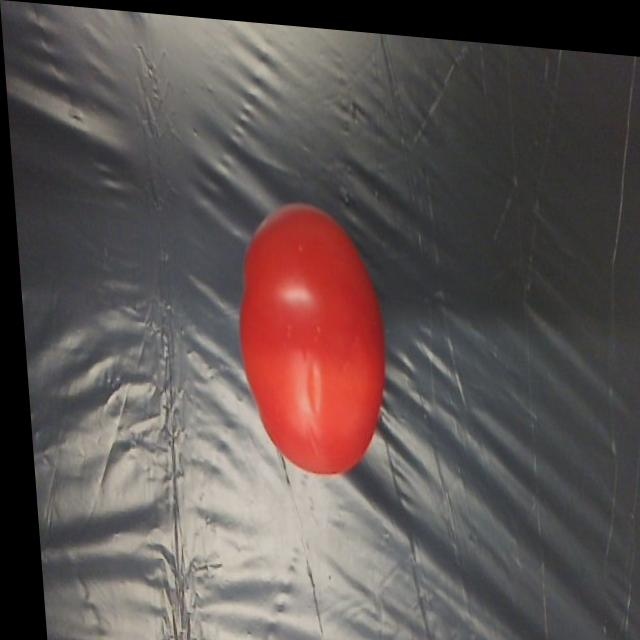kirmizi: (220, 182, 394, 483)
